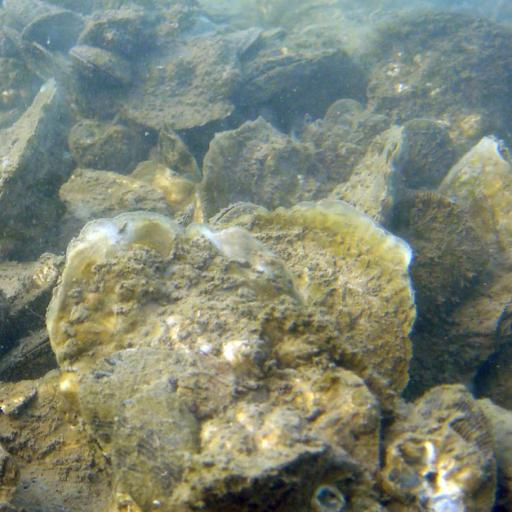Oyster-Closed: (405, 140, 512, 400), (385, 384, 499, 512), (204, 124, 326, 219), (336, 133, 411, 225)
Oyster-Open: (52, 222, 393, 512), (237, 202, 419, 400)
